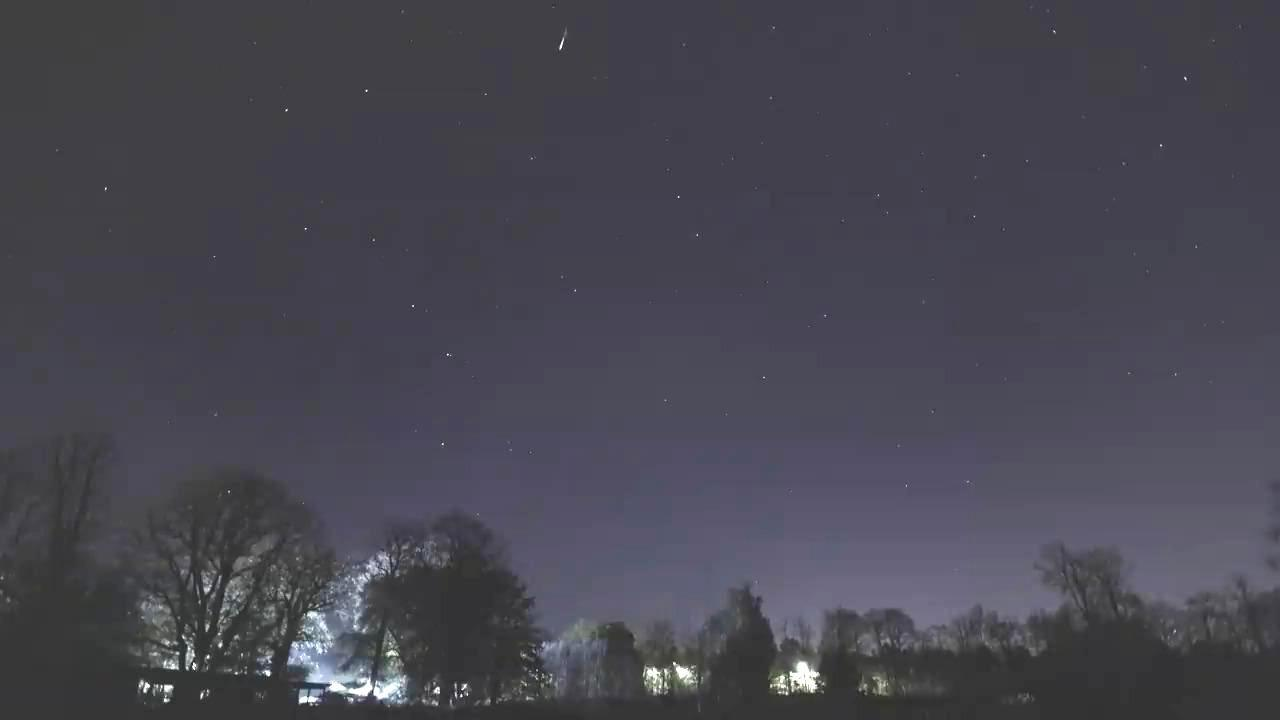meteorite: (517, 24, 613, 56)
